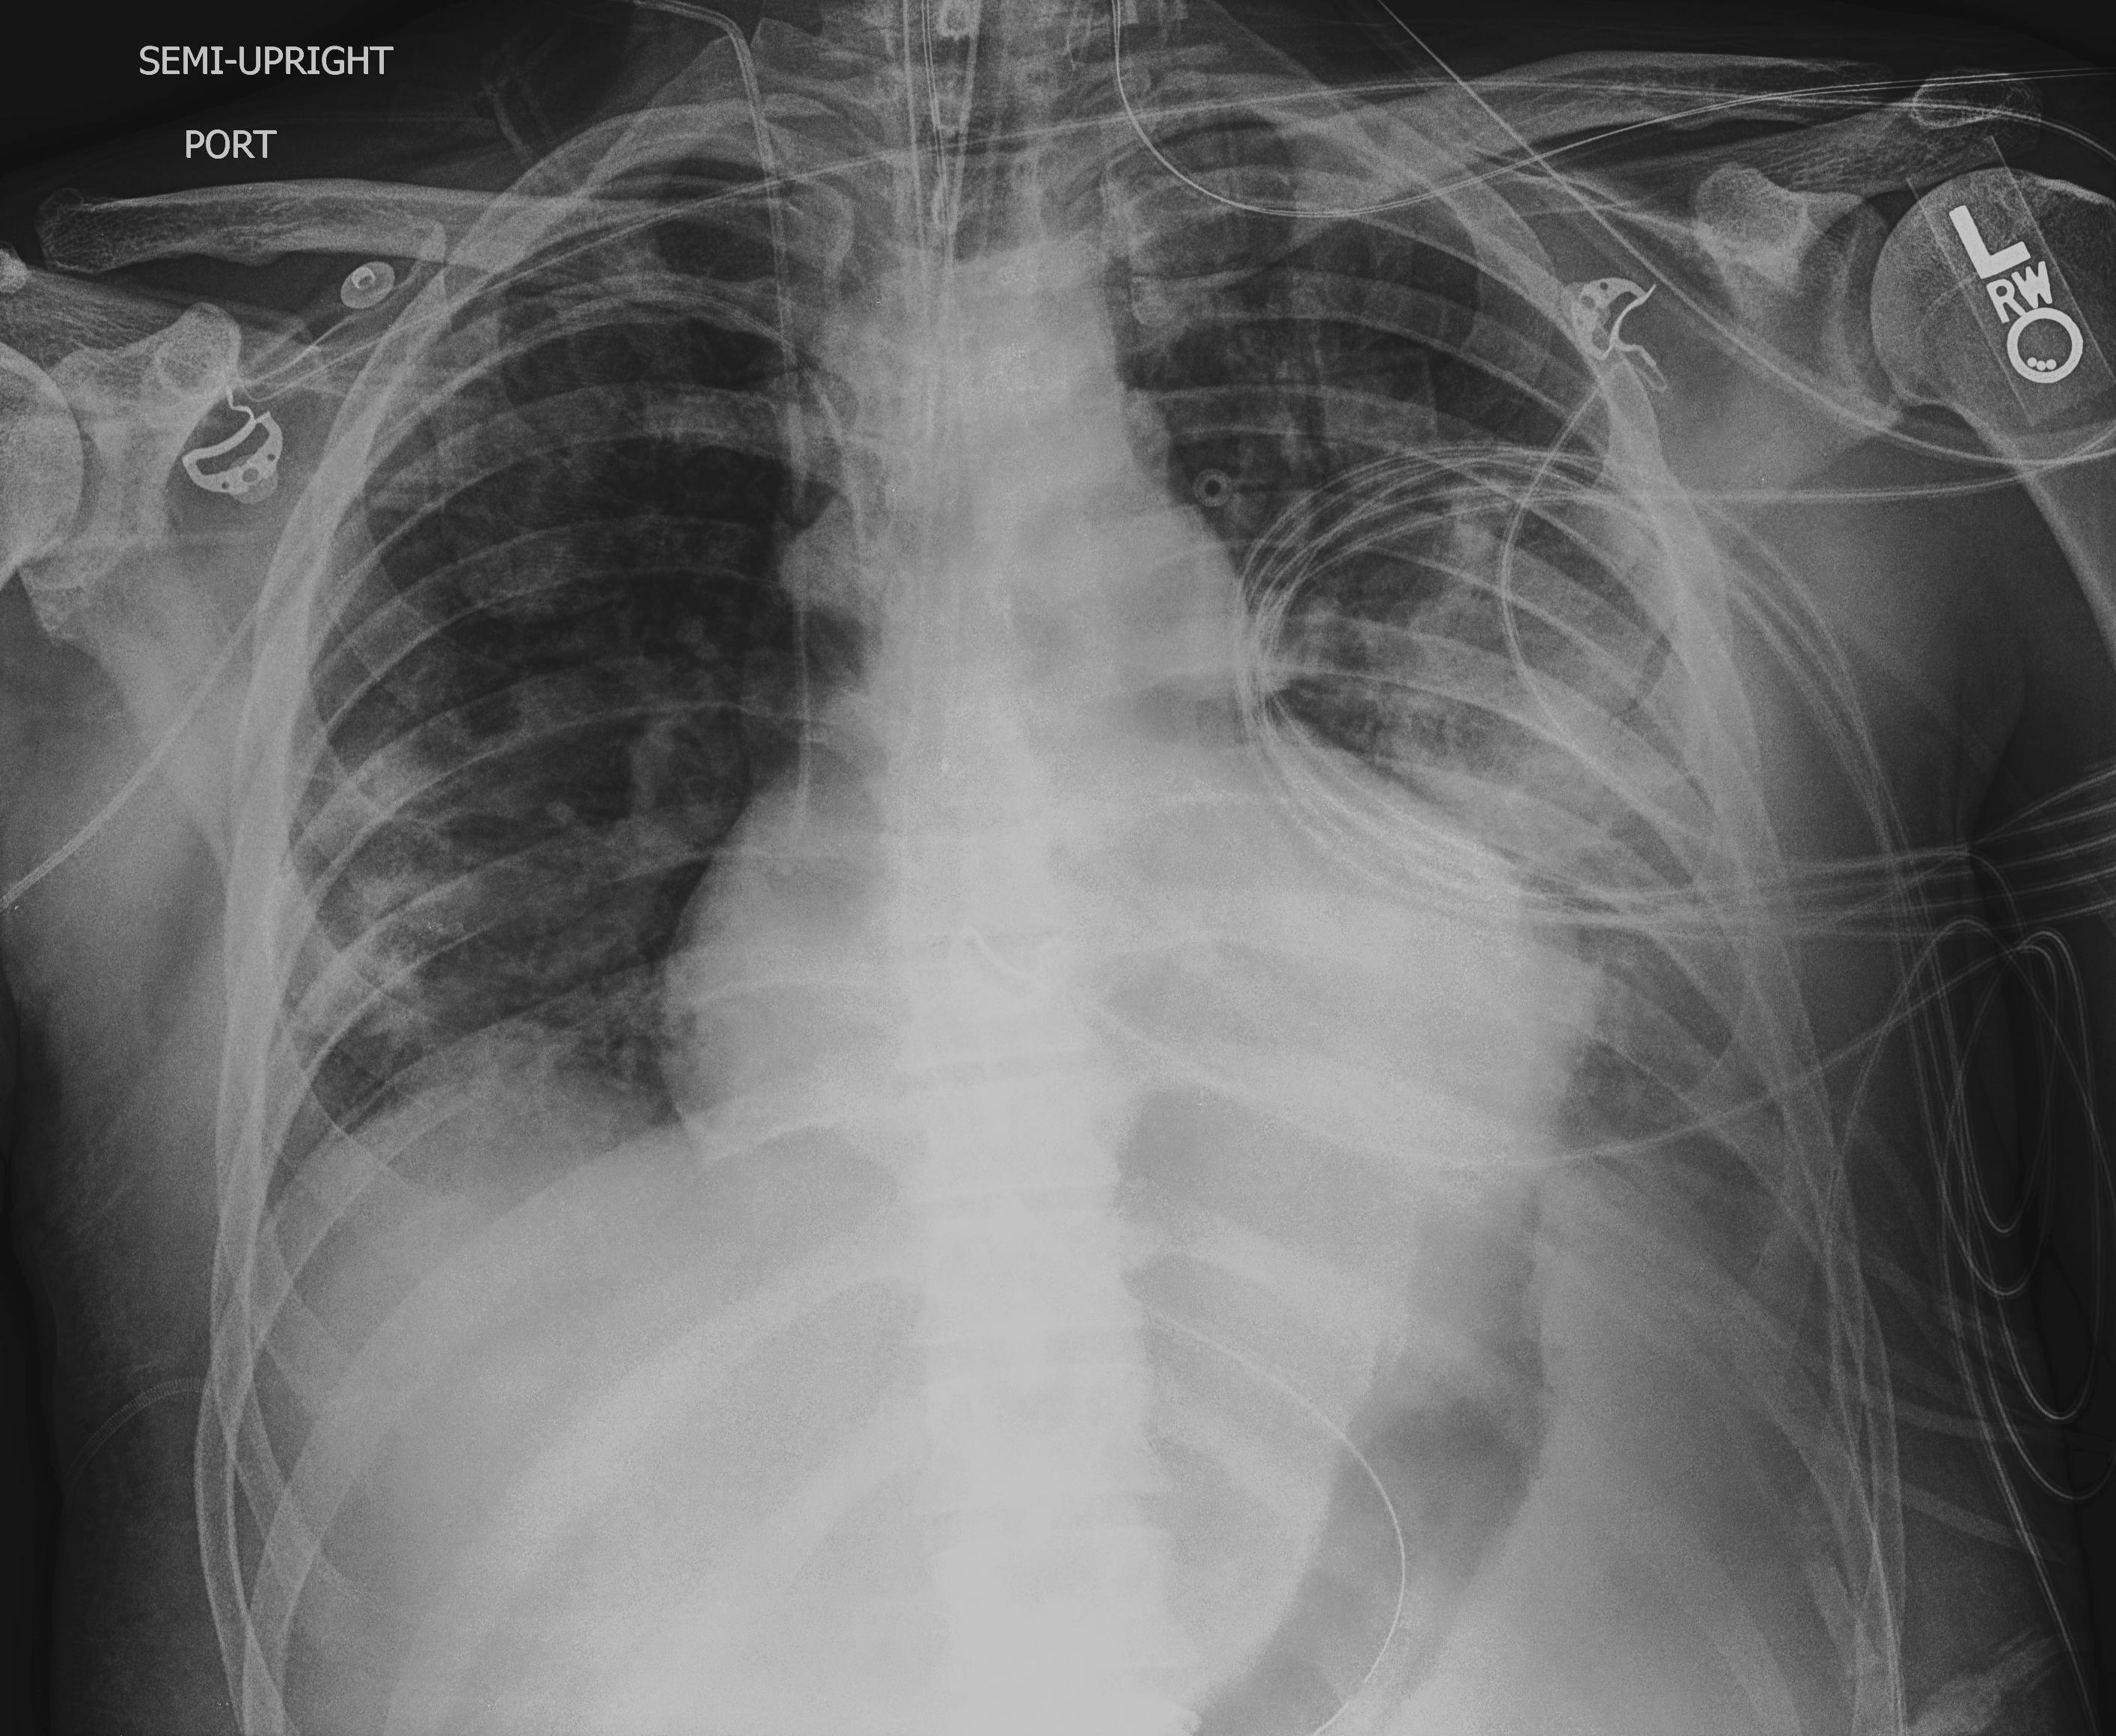Pleural Effusion: (1432, 696, 1814, 1429)
